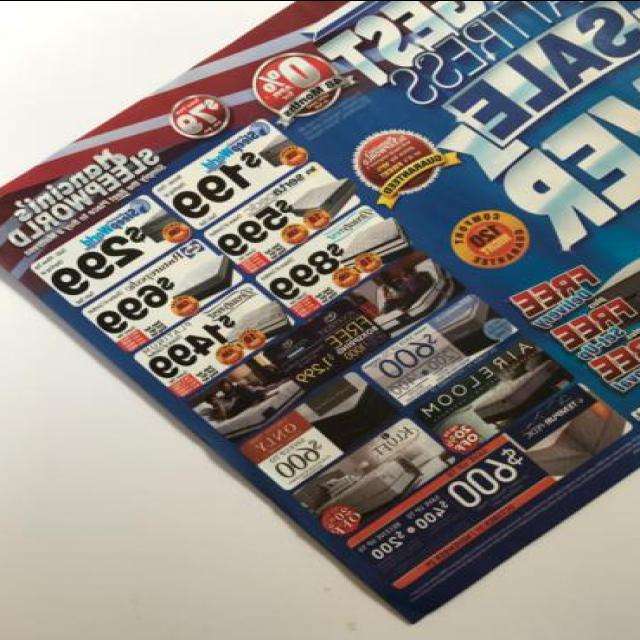kertas: (0, 0, 640, 630)
